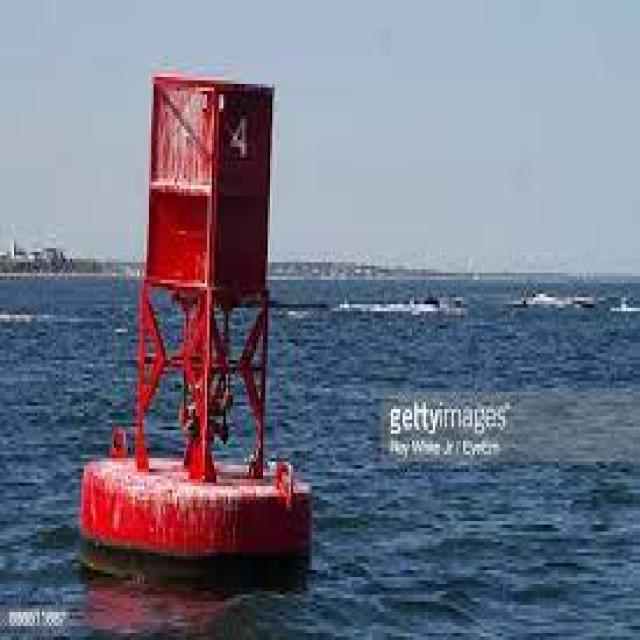2.1 lateral mark -P-: (76, 38, 316, 584)
